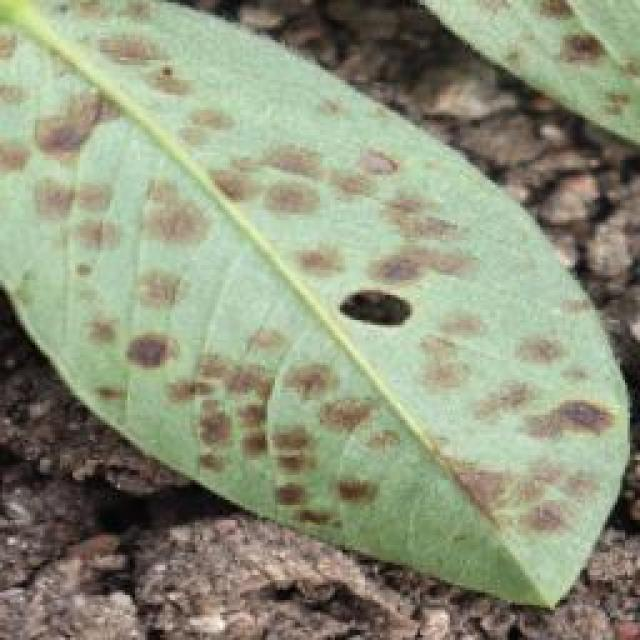Whitefly: (0, 0, 627, 614)
